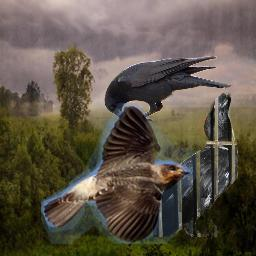Crow: (153, 93, 238, 237), (104, 56, 232, 131)
Swallow: (41, 103, 196, 244)
